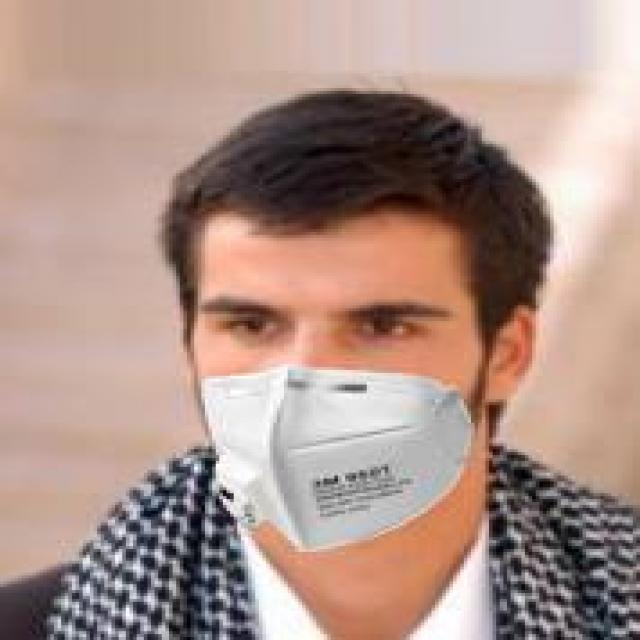mask: (130, 56, 576, 552)
